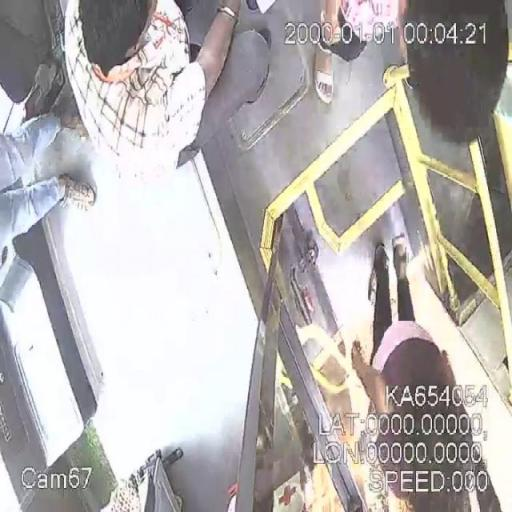persona: (350, 236, 502, 511), (61, 0, 243, 182), (301, 0, 506, 116)
